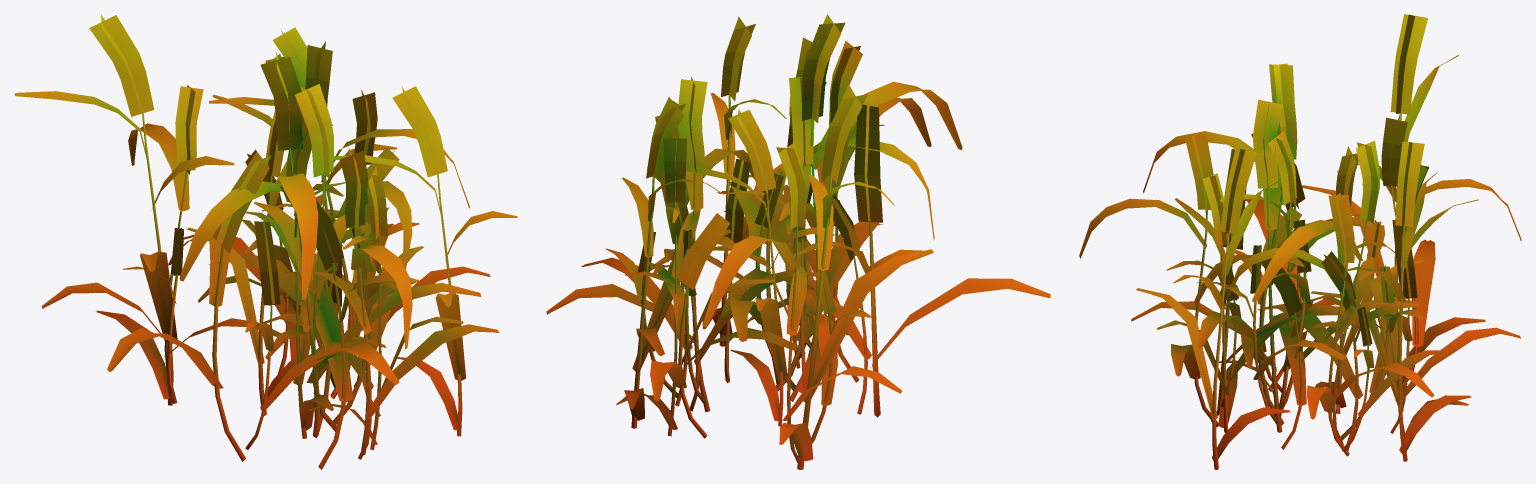
Rendered from SM_Wheat_4.fbx.
3 views of the same model, side by side, from view 1: azimuth 30°, elevation 25°; view 2: azimuth 150°, elevation 25°; view 3: azimuth 270°, elevation 25° (orthographic). The views are drawn at different scales.
Visible parts, largest first — view 1: SM_Wheat_4; view 2: SM_Wheat_4; view 3: SM_Wheat_4.
Part boxes in pixels (box(x1,y1,x2,y2)): SM_Wheat_4: box(14, 14, 517, 469); SM_Wheat_4: box(546, 14, 1050, 469); SM_Wheat_4: box(1079, 14, 1521, 469).
Bounding box in the file's own units: 2.3 × 2.07 × 2.33.
